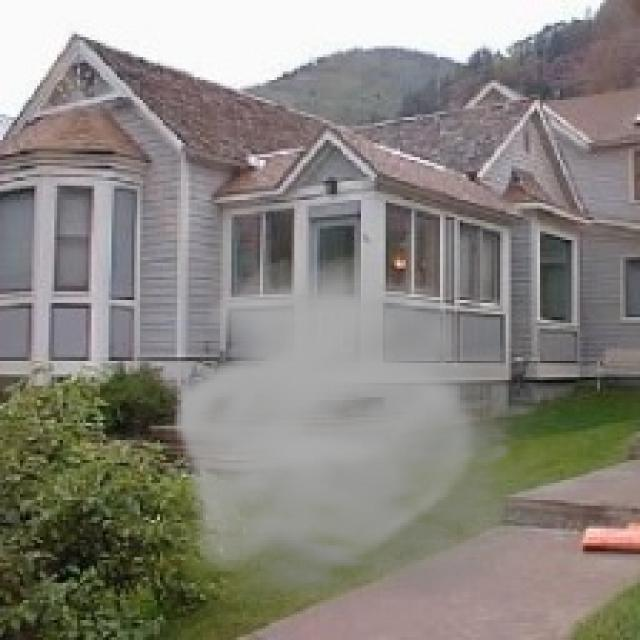smoke: (165, 254, 586, 620)
